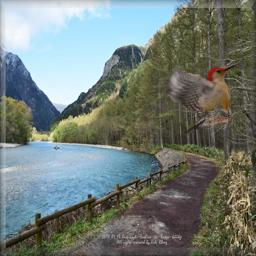Woodpecker: (155, 63, 236, 135)
